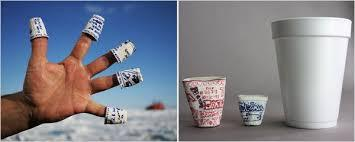Plastic cup: (183, 3, 355, 137)
